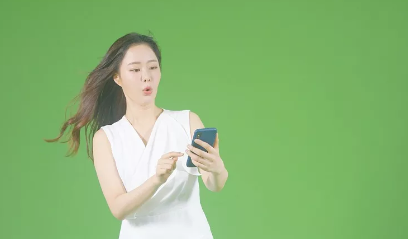no-phone: (149, 148, 185, 188)
reading: (183, 123, 231, 180)
